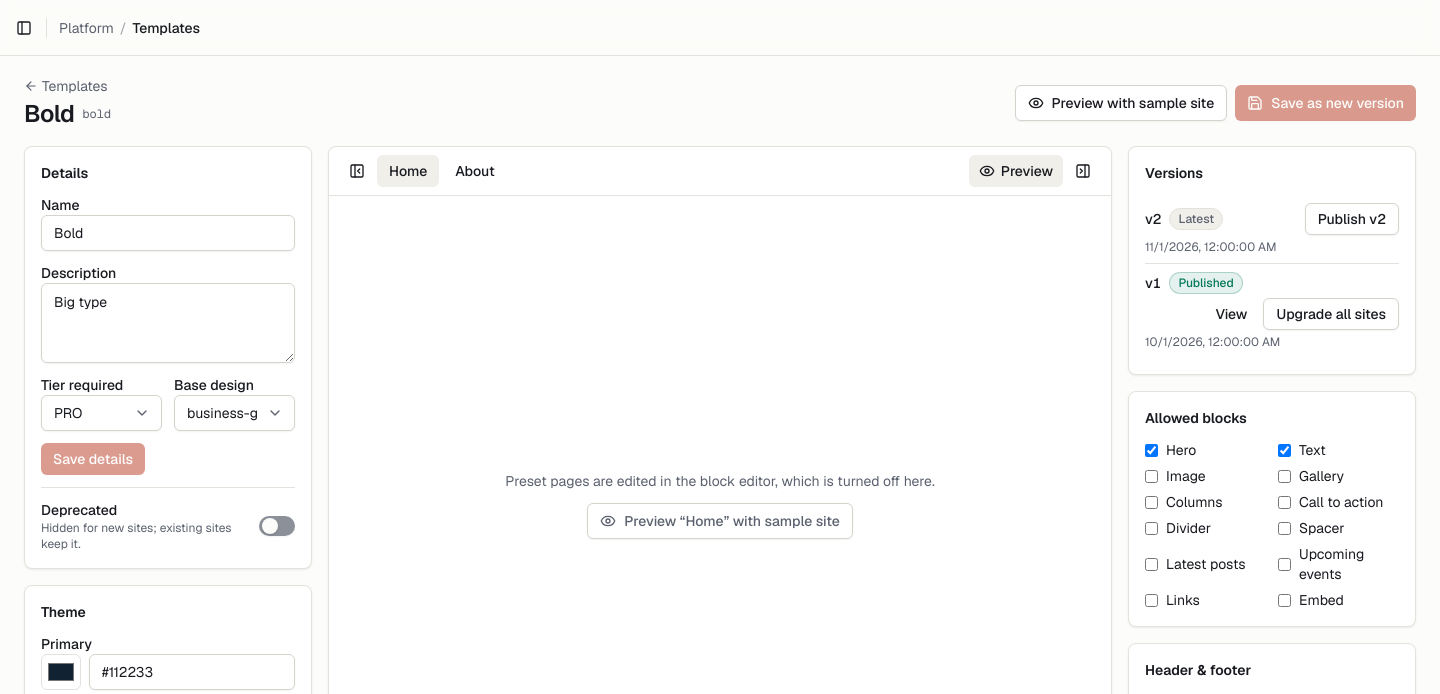
it: template editor › publishes and upgrades only after confirming
The image size is (1440, 694).
Click the button "Publish v2". click: [1352, 219]
box: [1305,203,1399,235]
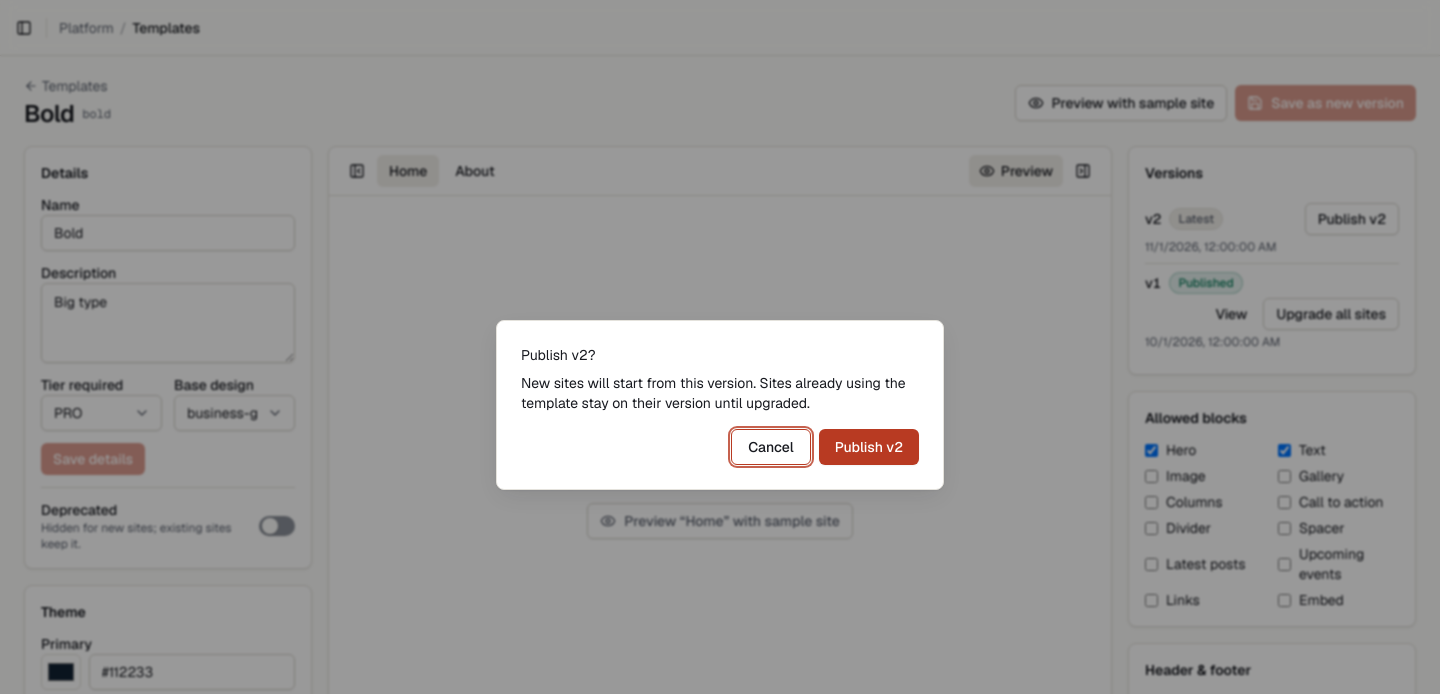
Click the button "Publish v2". click: [869, 447]
box: [819,429,919,465]
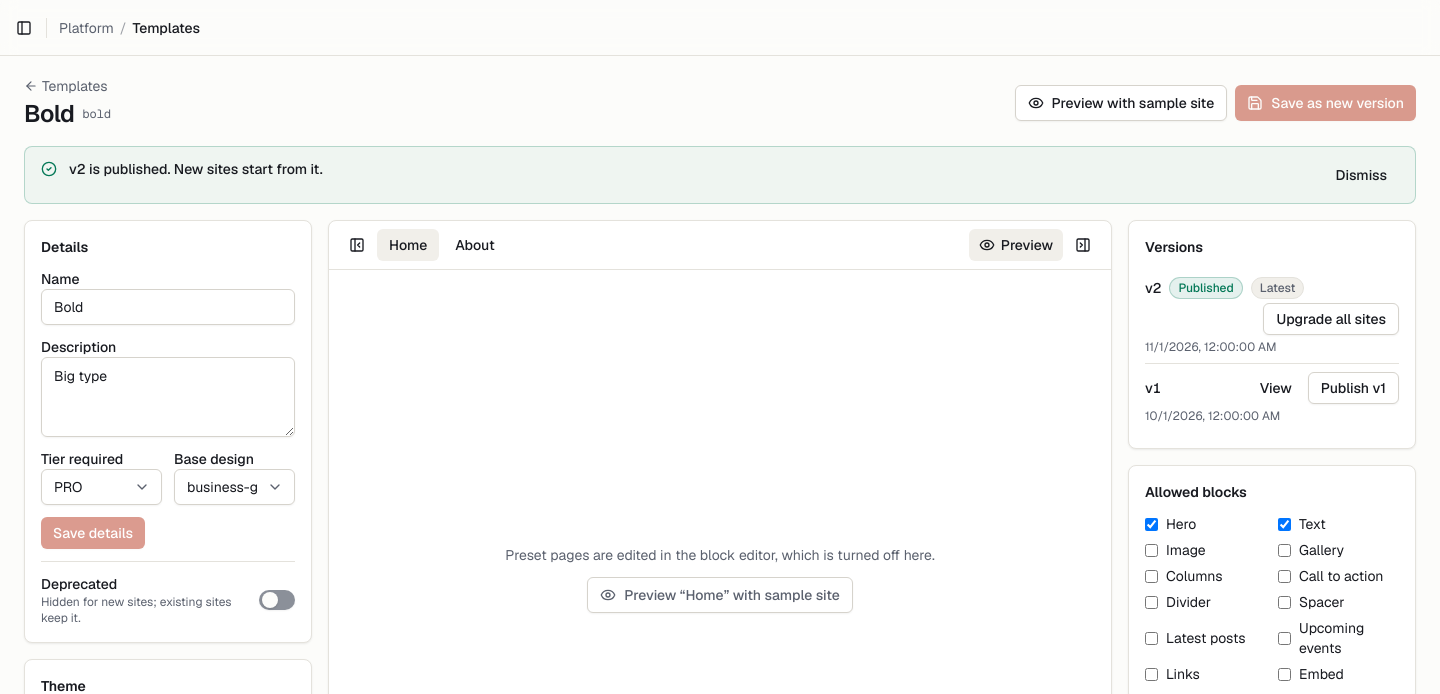
Check: the text "v2 is published. New sites start from it." is shown, box [69,160,323,178]
Click the button "Upgrade all sites". click: [1331, 319]
box: [1263,303,1399,335]
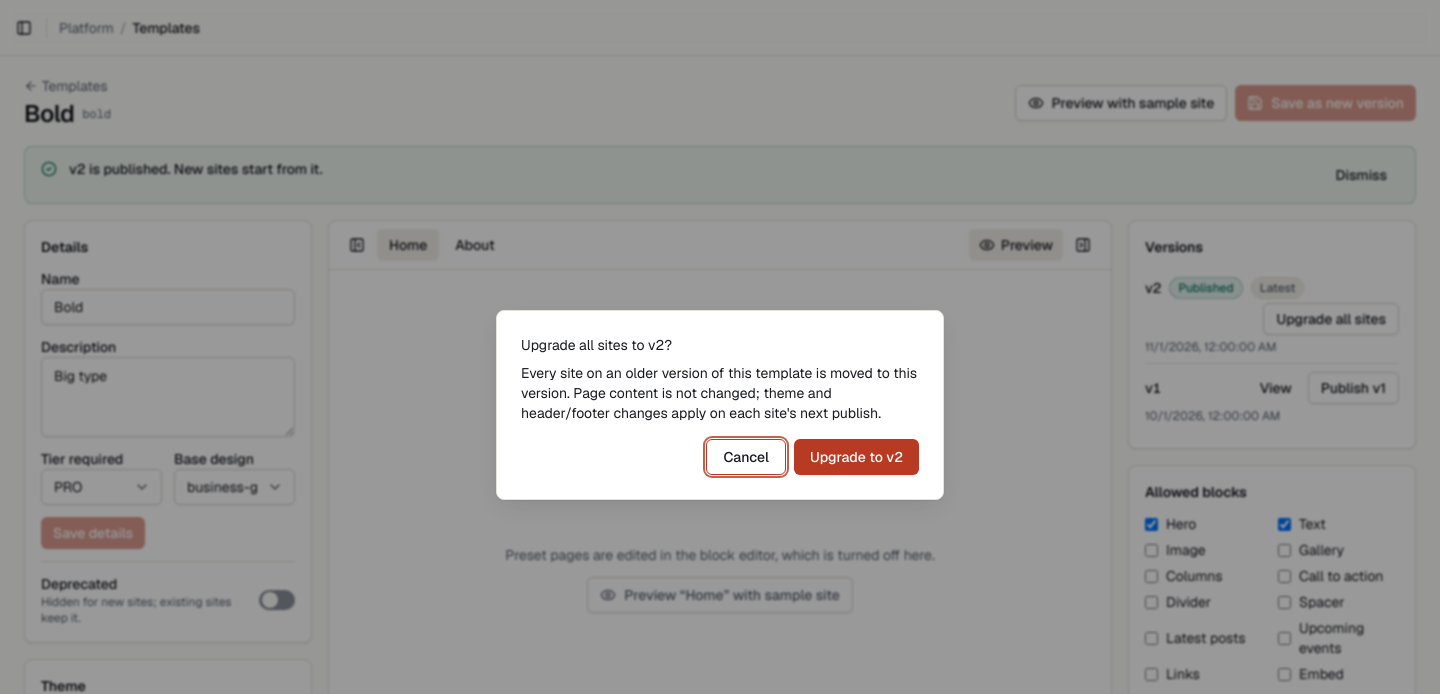
Check: the heading "Upgrade all sites to v2?" is shown, box [521,336,672,354]
Click the button "Cancel". click: [746, 457]
box: [706,439,786,475]
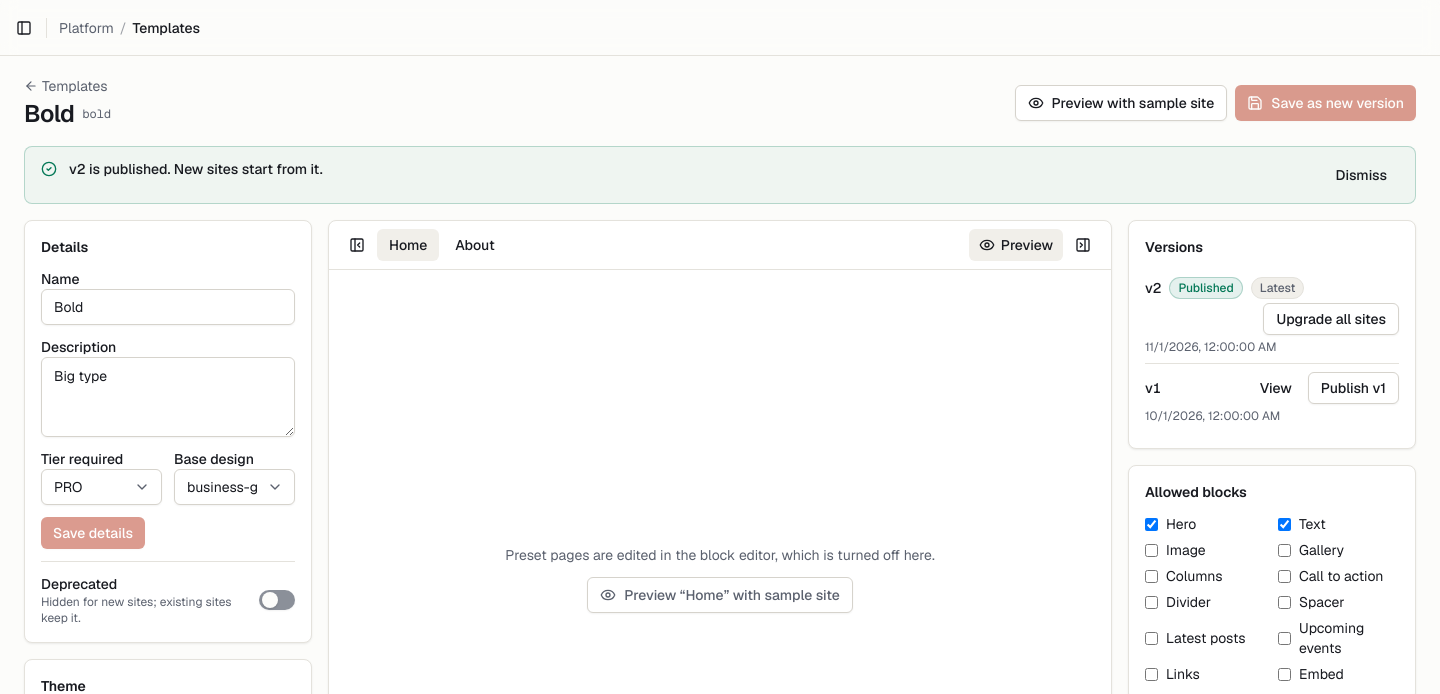
Check: the dialog is gone
Click the button "Upgrade all sites". click: [1331, 319]
box: [1263,303,1399,335]
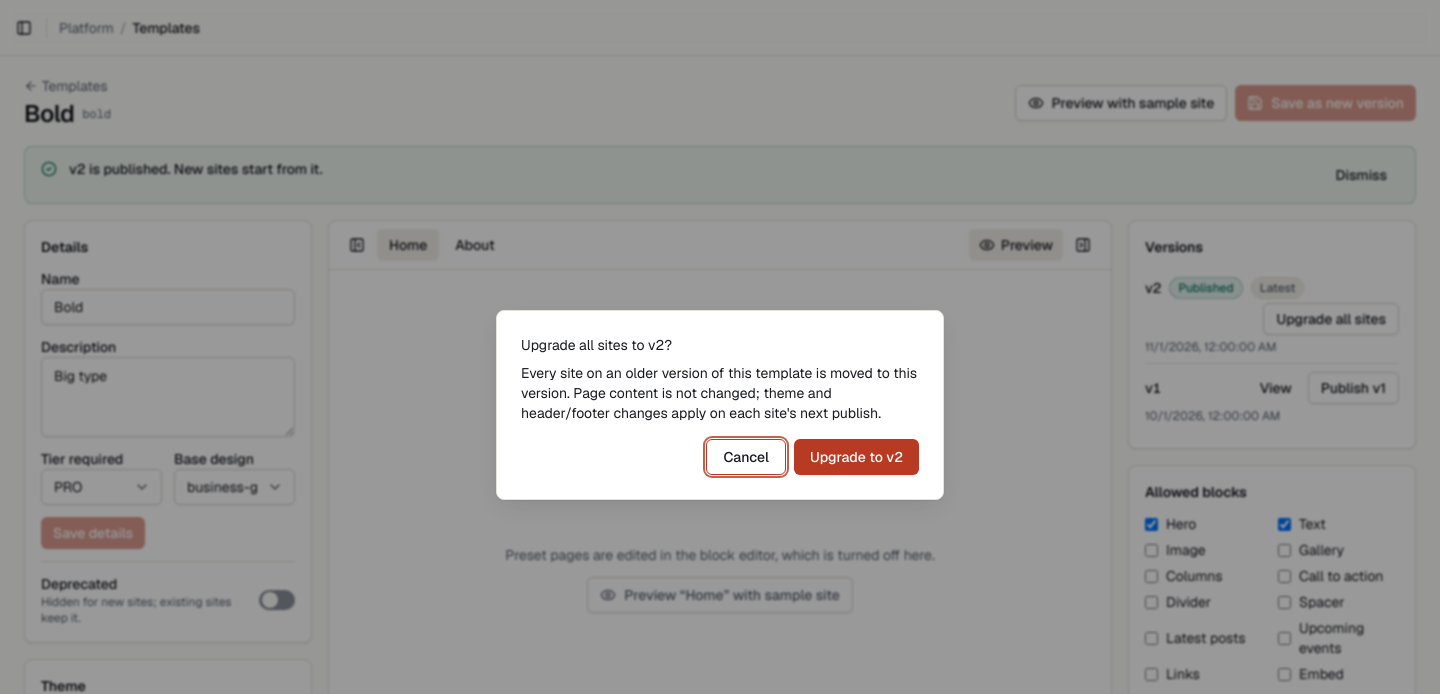
Click the button "Upgrade to v2". click: [856, 457]
box: [794,439,919,475]
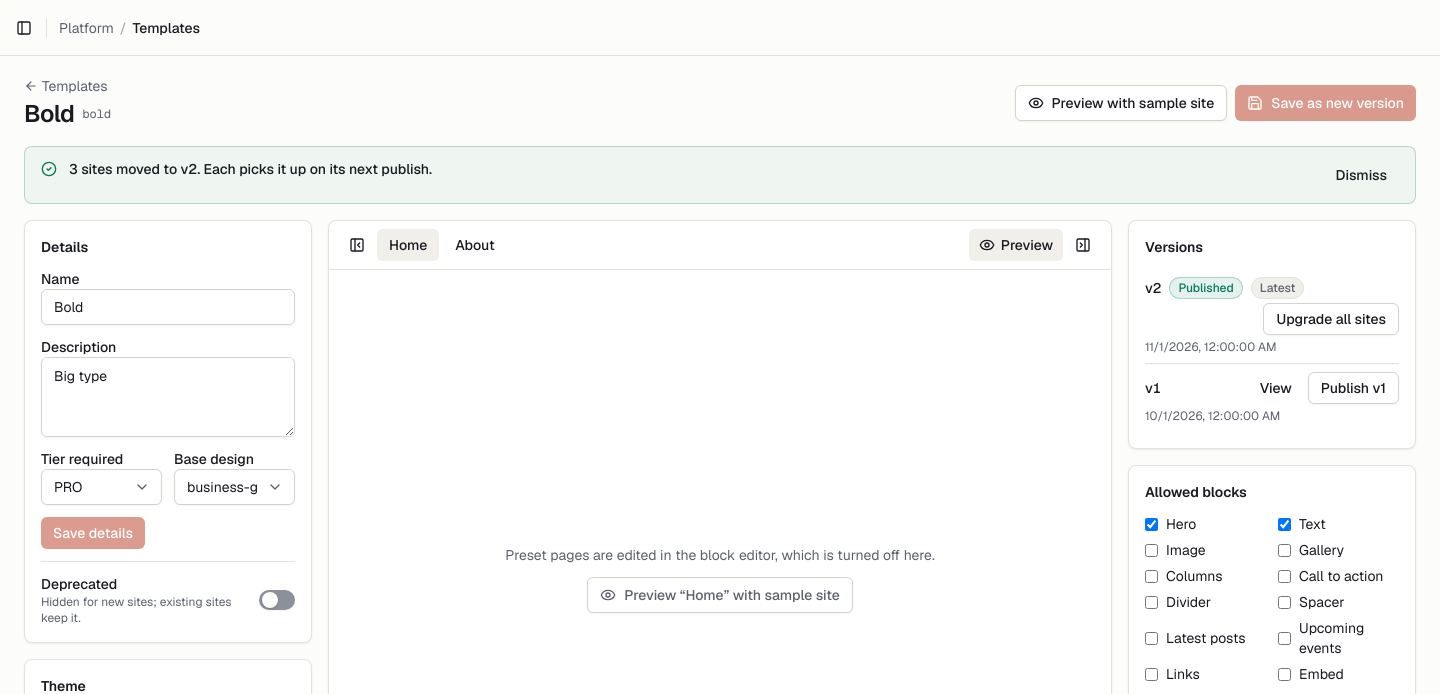
Check: the text "3 sites moved to v2. Each picks it up on its next publish." is shown, box [69,160,432,178]
